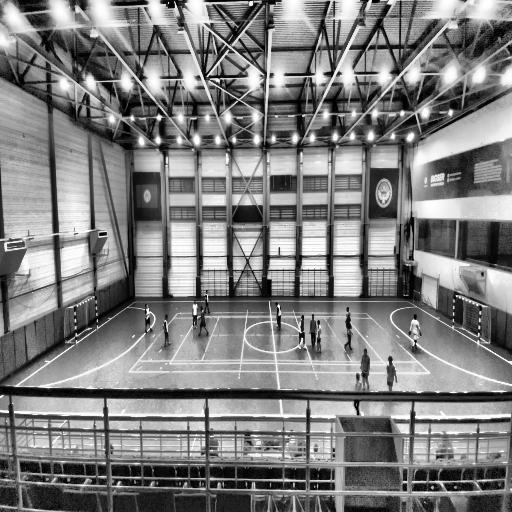ball: (276, 324, 279, 329)
player: (408, 312, 422, 355), (384, 354, 398, 391), (352, 373, 362, 417), (360, 347, 370, 390), (344, 306, 353, 353), (197, 305, 209, 338), (144, 302, 154, 336), (162, 313, 171, 349), (310, 314, 317, 352), (298, 314, 305, 351), (275, 302, 282, 332), (316, 320, 322, 354), (192, 300, 198, 329), (204, 289, 210, 313)
